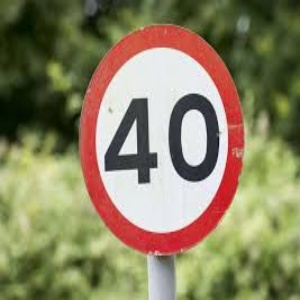40 speed: (79, 23, 244, 256)
